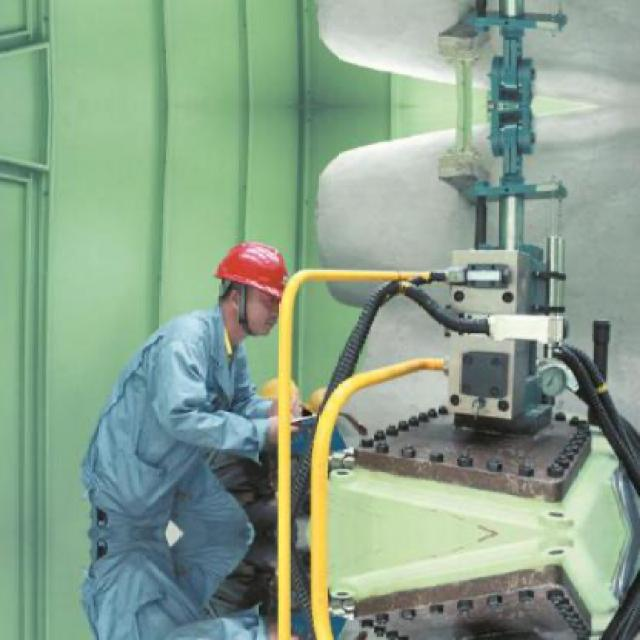helmet: (207, 228, 296, 341)
